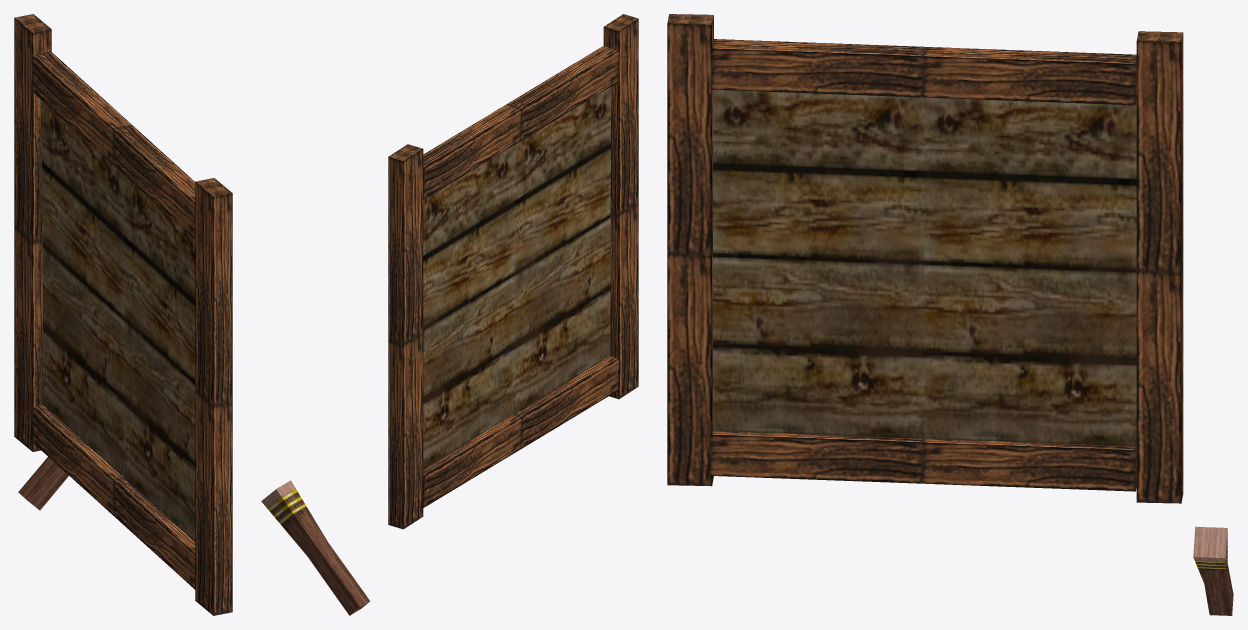
The model's file is RM_LARGE_SLUCE_SWITCH.fbx.
3 renders of one model, left to right at view 1: azimuth 30°, elevation 25°; view 2: azimuth 150°, elevation 25°; view 3: azimuth 270°, elevation 25°, orthographic. The views are drawn at different scales.
Parts seen in each view (by area): view 1: RM_LARGE_SLUCE_SWITCH; view 2: RM_LARGE_SLUCE_SWITCH; view 3: RM_LARGE_SLUCE_SWITCH.
Part boxes in pixels (bbox=[...]): RM_LARGE_SLUCE_SWITCH: bbox=[14, 14, 232, 615]; RM_LARGE_SLUCE_SWITCH: bbox=[261, 14, 638, 615]; RM_LARGE_SLUCE_SWITCH: bbox=[667, 14, 1233, 615].
Bounding box in the file's own units: 8975 × 24726 × 22547.
Materials: 3 (3 with a texture image).
